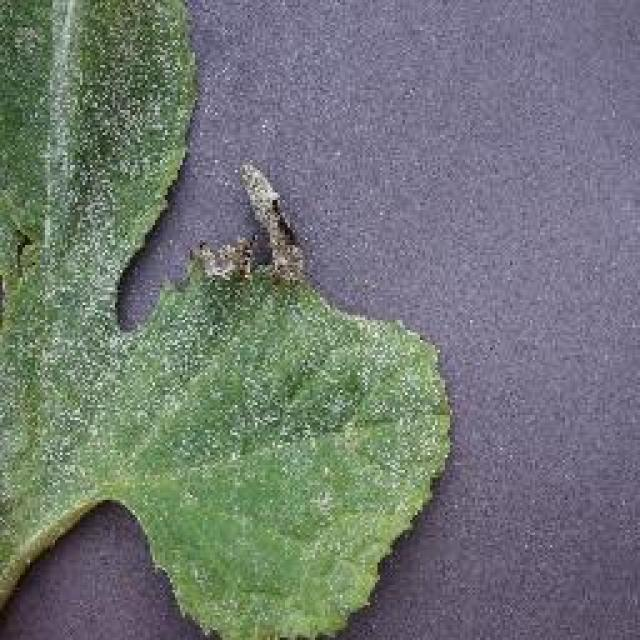Squ_Powdery_mildew: (143, 214, 422, 586), (18, 1, 136, 458)
